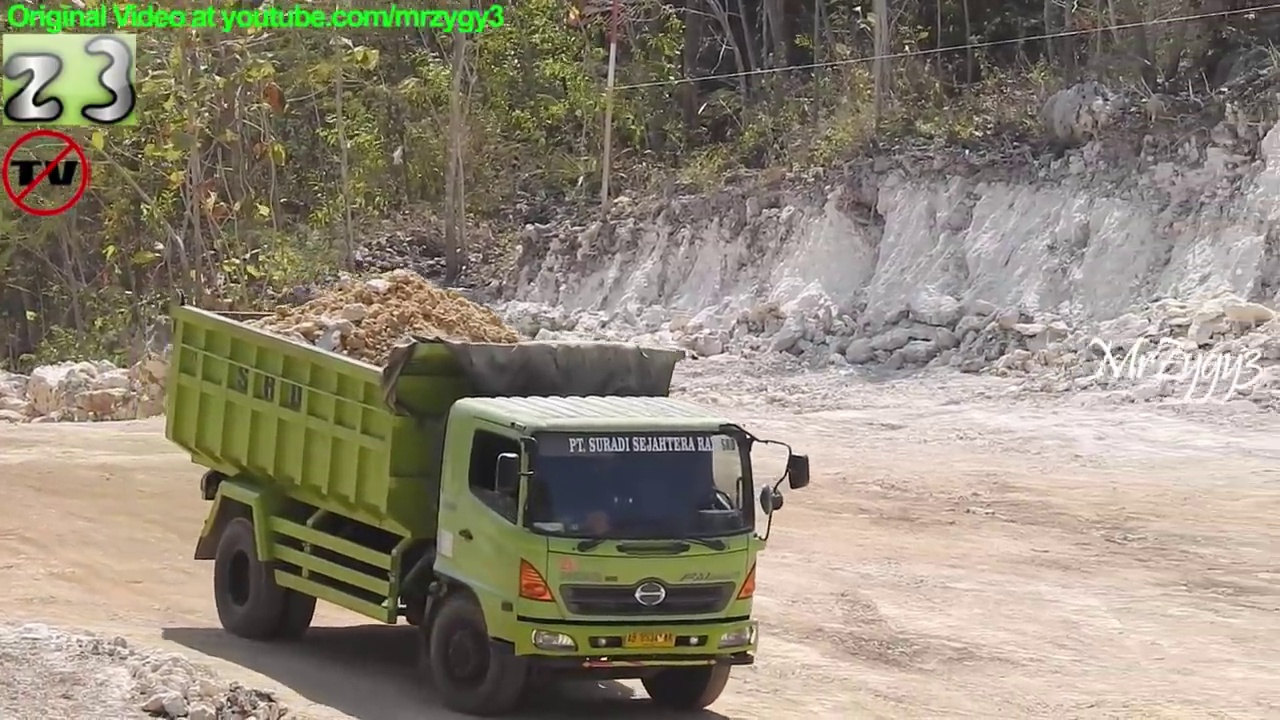truck: (160, 281, 819, 720)
